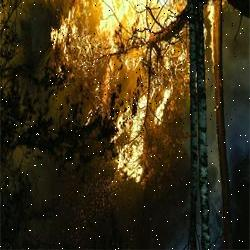fire: (50, 0, 219, 193)
